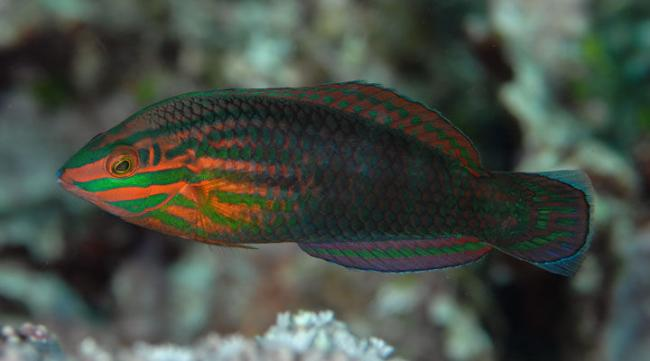fish: (55, 78, 596, 281)
